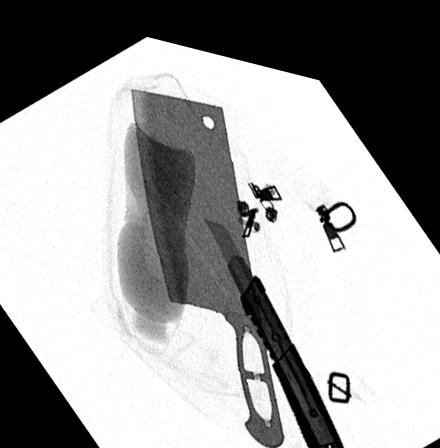Knife: (129, 80, 283, 435), (201, 205, 345, 448)
